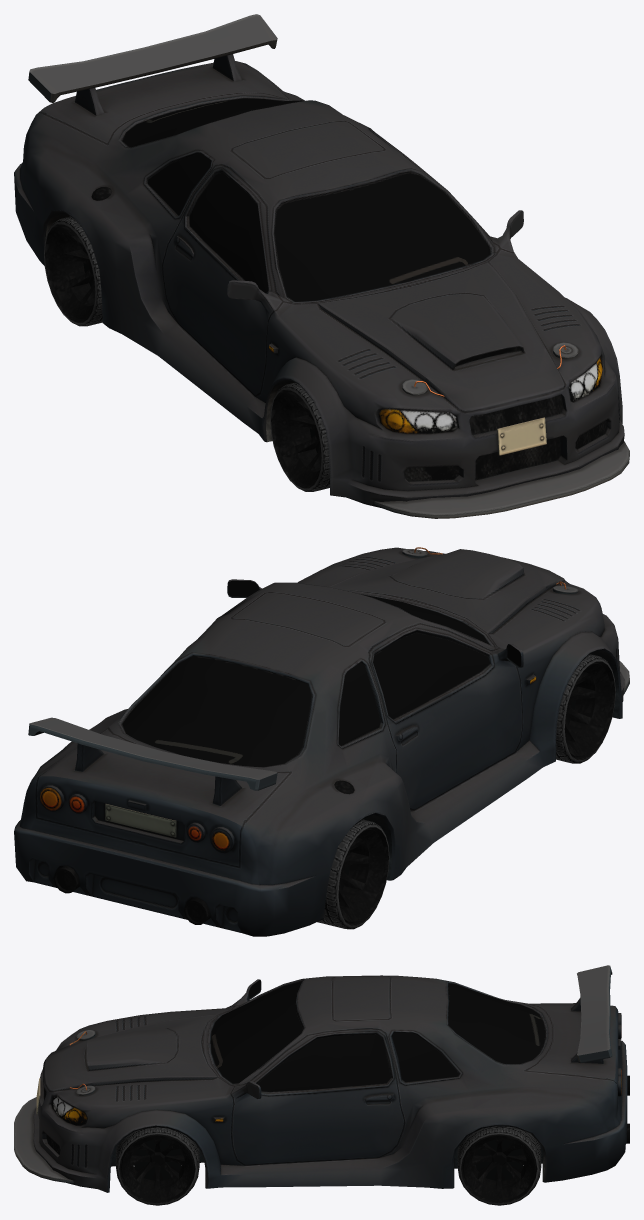
The model's file is Model_Skyline by BUMSTRUM.fbx.
The picture shows the model from 3 angles, top to bottom: view 1: azimuth 30°, elevation 25°; view 2: azimuth 150°, elevation 25°; view 3: azimuth 270°, elevation 25°; orthographic projection. The views are drawn at different scales.
Parts seen in each view (by area): view 1: Body, Wheel_FR, Wheel_RR; view 2: Body, Wheel_RR, Wheel_FR; view 3: Body, Wheel_RL, Wheel_FL.
Boxes of the visible parts, x1,y1,x2,y2 form: Body: [14, 14, 629, 518]; Wheel_FR: [270, 382, 329, 491]; Wheel_RR: [44, 216, 102, 326]; Body: [14, 547, 629, 936]; Wheel_RR: [317, 819, 389, 929]; Wheel_FR: [556, 654, 615, 763]; Body: [14, 965, 629, 1192]; Wheel_RL: [457, 1126, 541, 1205]; Wheel_FL: [116, 1127, 199, 1205].
Size of the model in its own units: 225 by 152 by 535.
Materials: 2 (2 with a texture image).
